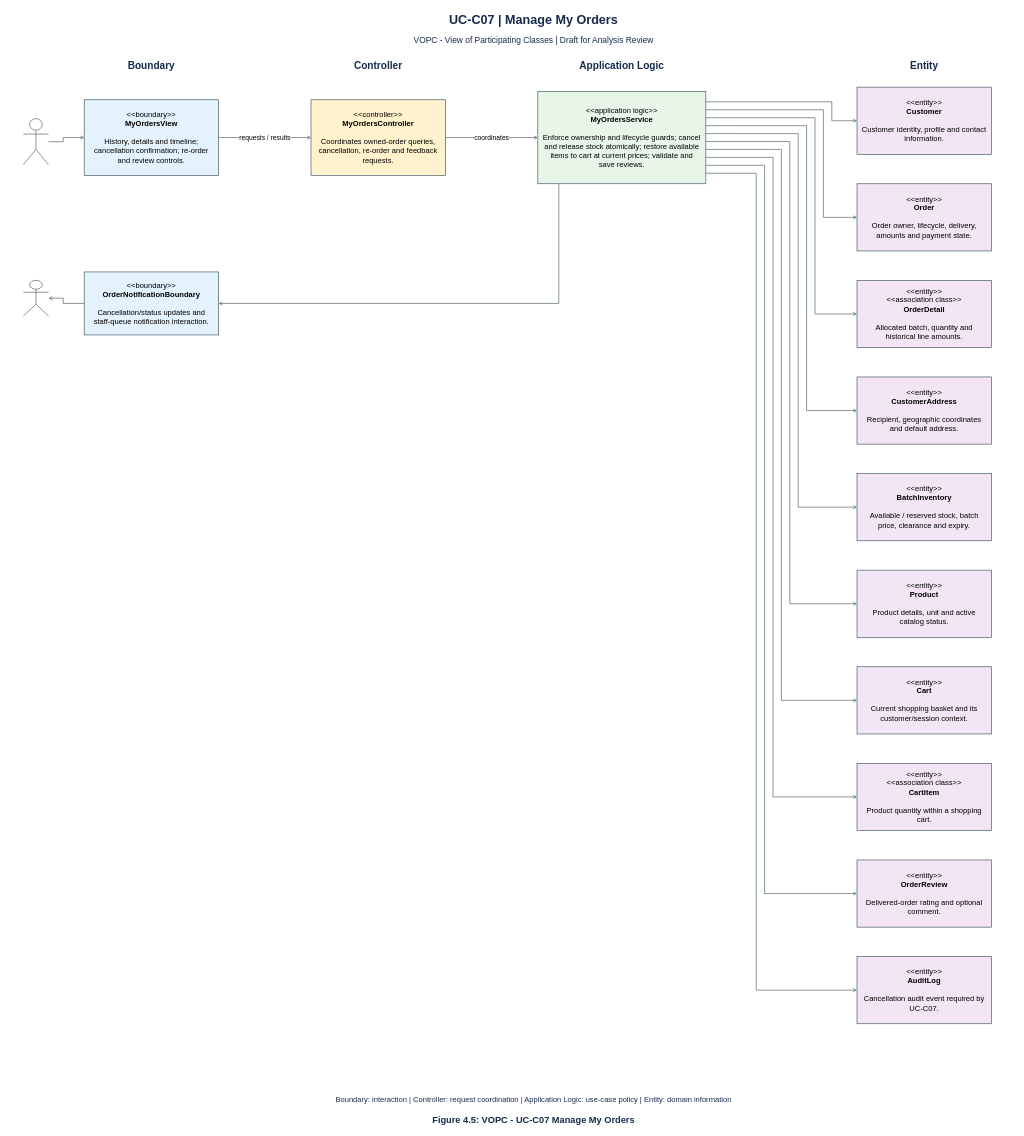
This 1024x1136 diagram has some shape labels left out. Here are the shapes that lost their labels. From the top down, the centre of each, then its label:
the point at 36,141: Customer
the point at 36,298: Notification Service
